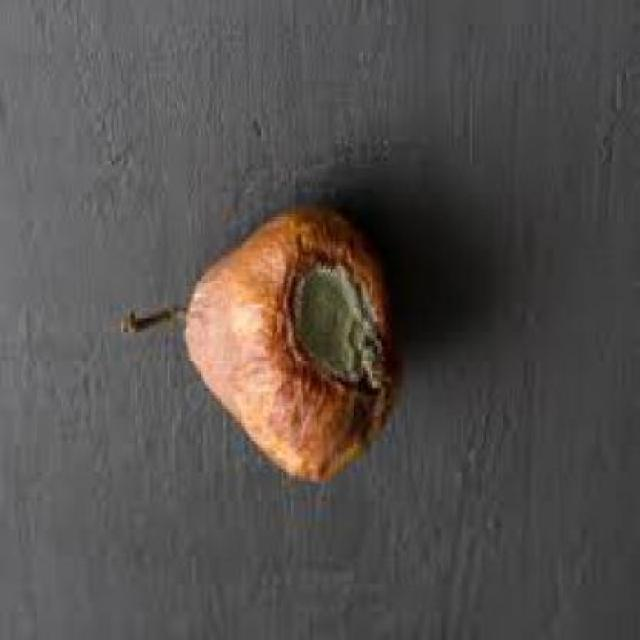BIODEGRADABLE: (120, 206, 402, 486)
